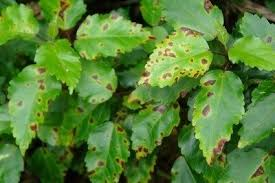Diseased_Leaves: (162, 28, 200, 65), (91, 139, 124, 180), (202, 129, 230, 167), (57, 1, 71, 21), (201, 103, 214, 122), (30, 125, 36, 130), (170, 52, 175, 57), (106, 85, 111, 89)
